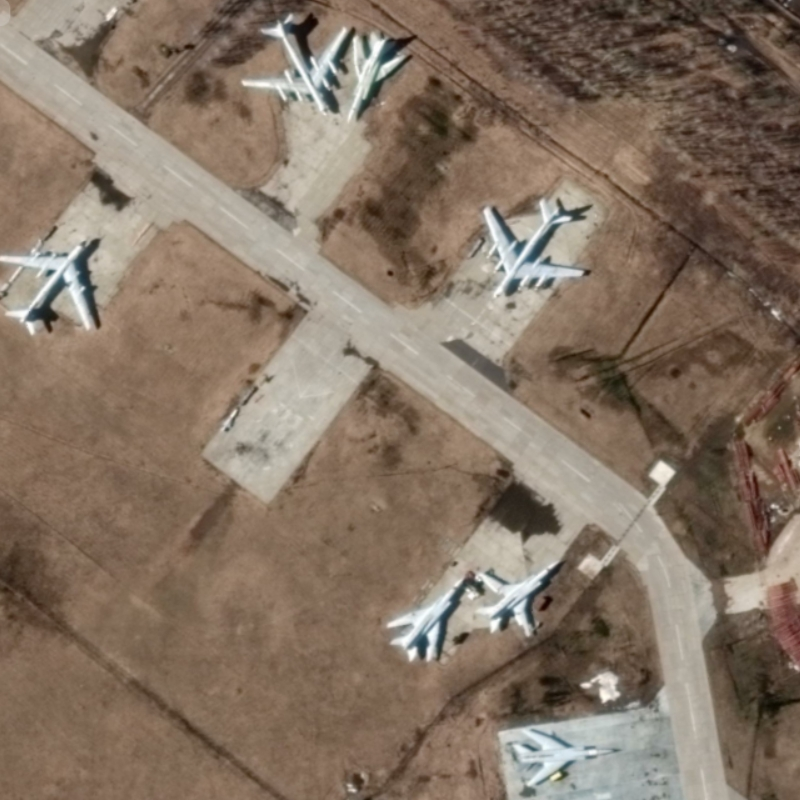A12: (386, 575, 466, 665), (473, 558, 562, 638), (512, 728, 616, 789), (345, 30, 407, 125)
A17: (239, 10, 349, 118), (481, 196, 586, 300), (1, 238, 97, 337)
